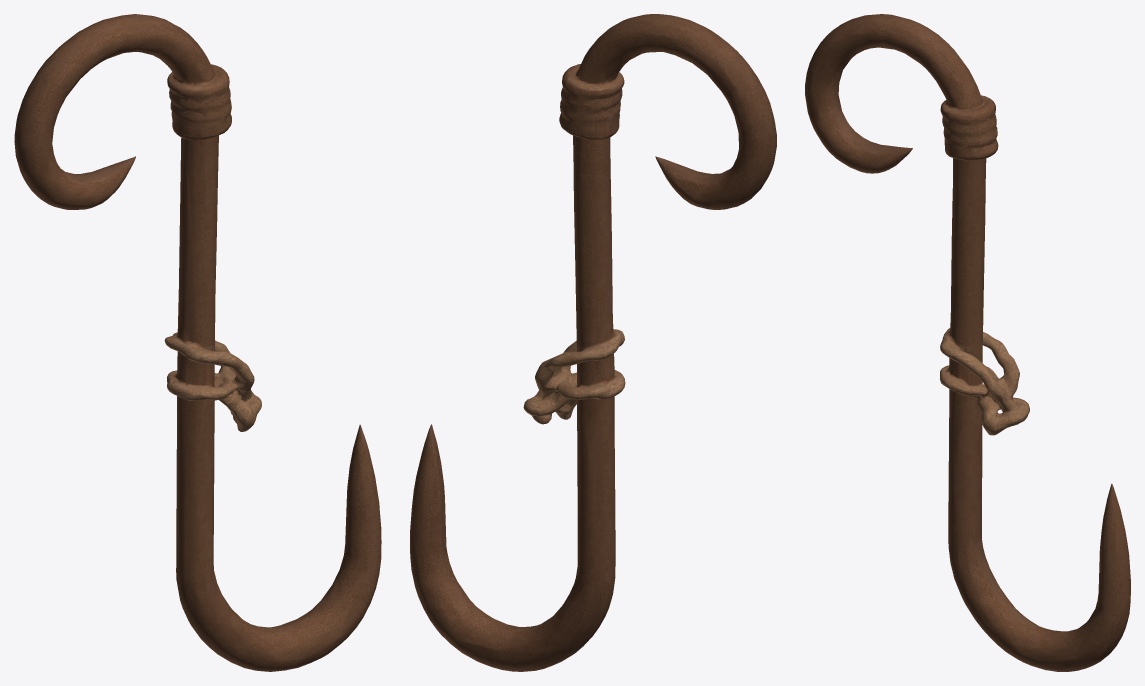
File: hook.glb
3 views of the same model, side by side, from view 1: azimuth 30°, elevation 25°; view 2: azimuth 150°, elevation 25°; view 3: azimuth 330°, elevation 25° (orthographic). The views are drawn at different scales.
Parts seen in each view (by area): view 1: Mesh_0; view 2: Mesh_0; view 3: Mesh_0.
Boxes of the visible parts, x1,y1,x2,y2 form: Mesh_0: (14, 14, 381, 671); Mesh_0: (410, 14, 776, 671); Mesh_0: (805, 14, 1130, 671).
Size of the model in its own units: 1.04 by 1.9 by 0.1831.
Materials: 1 (1 with a texture image).
